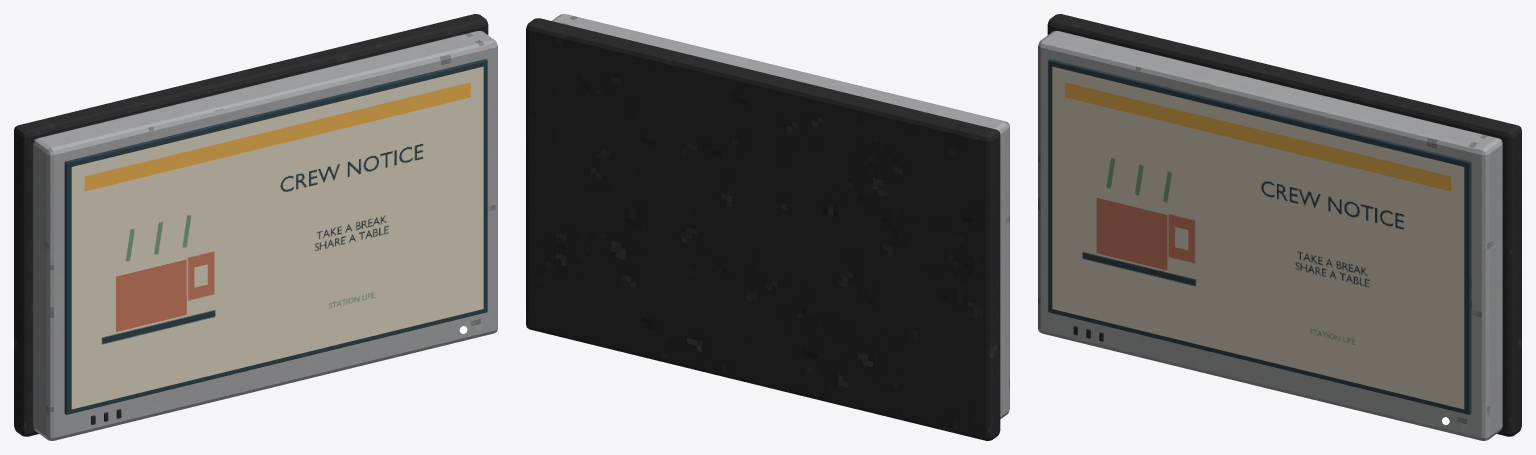
File: lbd_crew_bulletin.glb
3 views of the same model, side by side, from view 1: azimuth 30°, elevation 25°; view 2: azimuth 150°, elevation 25°; view 3: azimuth 330°, elevation 25° (orthographic).
Parts seen in each view (by area): view 1: crew_bulletin__LBD_Bulletin_Screen_026, crew_bulletin__bezel_022, crew_bulletin__mount_003, crew_bulletin__screen recess_025; view 2: crew_bulletin__mount_003, crew_bulletin__bezel_022; view 3: crew_bulletin__LBD_Bulletin_Screen_026, crew_bulletin__bezel_022, crew_bulletin__mount_003, crew_bulletin__screen recess_025.
Part boxes in pixels (left/top/right/bottom): crew_bulletin__LBD_Bulletin_Screen_026: left=71, top=66, right=483, bottom=409; crew_bulletin__bezel_022: left=33, top=31, right=497, bottom=440; crew_bulletin__mount_003: left=14, top=14, right=488, bottom=436; crew_bulletin__screen recess_025: left=64, top=59, right=487, bottom=414; crew_bulletin__mount_003: left=526, top=18, right=1000, bottom=440; crew_bulletin__bezel_022: left=552, top=14, right=1009, bottom=419; crew_bulletin__LBD_Bulletin_Screen_026: left=1052, top=66, right=1464, bottom=409; crew_bulletin__bezel_022: left=1038, top=31, right=1502, bottom=440; crew_bulletin__mount_003: left=1047, top=14, right=1521, bottom=436; crew_bulletin__screen recess_025: left=1048, top=59, right=1471, bottom=414.
Bounding box in the file's own units: 1.45 × 0.91 × 0.175.
Materials: 6 (4 with a texture image).
